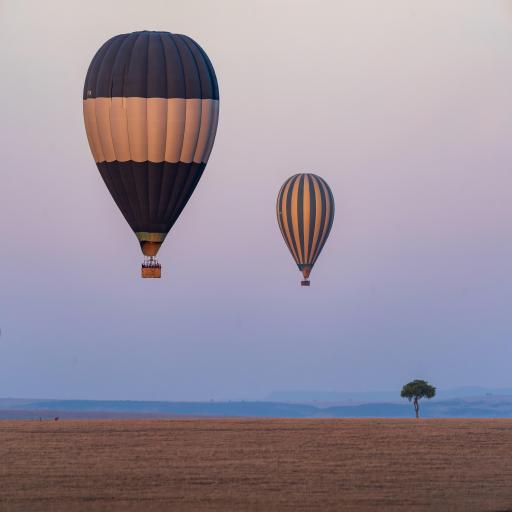hot air ballon: (81, 26, 221, 280), (274, 166, 339, 294)
